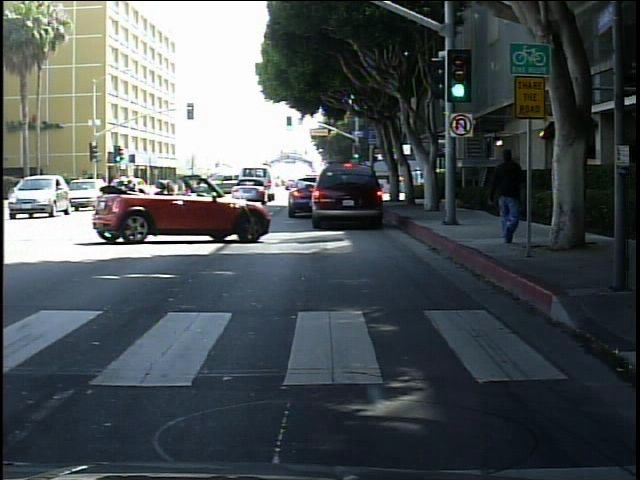person: (489, 137, 531, 245), (501, 148, 526, 229)
